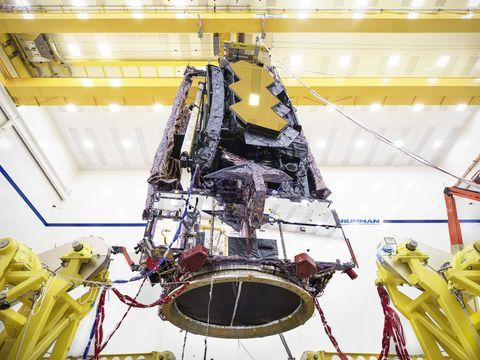body: (138, 59, 357, 299)
thruster: (160, 267, 316, 341)
